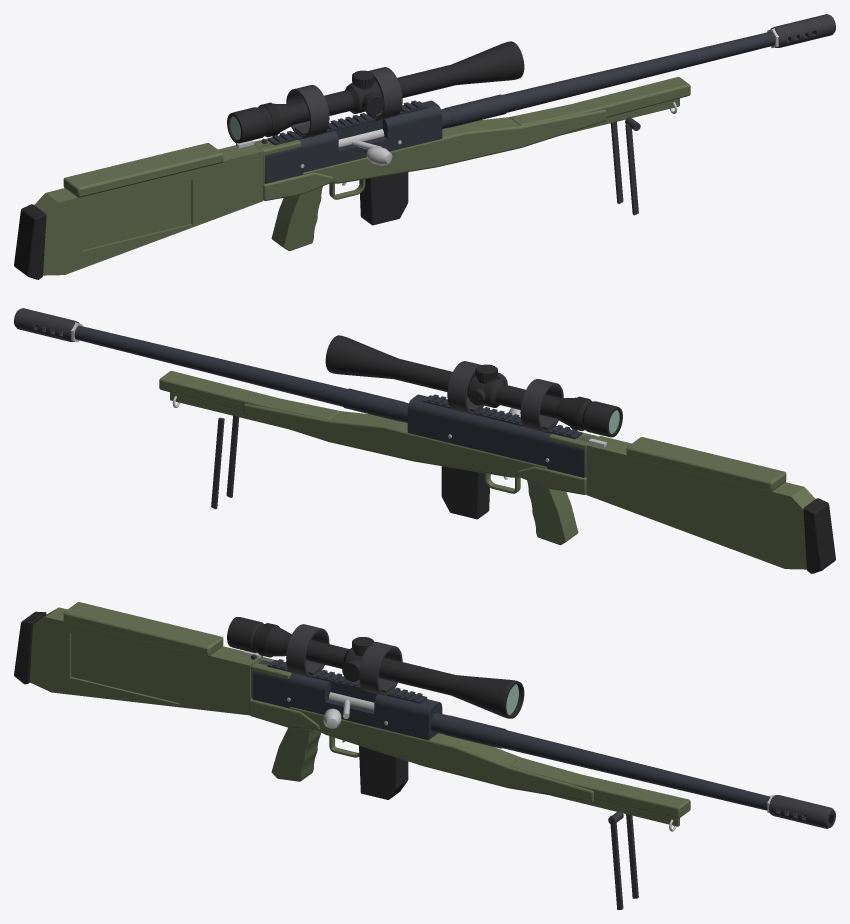
The model's file is AWP.glb.
The picture shows the model from 3 angles, top to bottom: view 1: azimuth 30°, elevation 25°; view 2: azimuth 150°, elevation 25°; view 3: azimuth 330°, elevation 25°; orthographic projection.
Parts seen in each view (by area): view 1: Buttstock, StockFront, ScopeTube, Receiver.002, Barrel.004, CheekRiser, Forend, PistolGrip.002, Magazine.004, ButtPad.001, Ring80, MuzzleBrake.001 (+8 smaller); view 2: Buttstock, StockFront, Receiver.002, ScopeTube, Barrel.004, CheekRiser, Forend, PistolGrip.002, Magazine.004, ButtPad.001, Ring80, MuzzleBrake.001 (+9 smaller); view 3: Buttstock, StockFront, ScopeTube, Receiver.002, Barrel.004, CheekRiser, Forend, Magazine.004, PistolGrip.002, MuzzleBrake.001, Ring80, Ring200 (+7 smaller).
Boxes of the visible parts, <box> form: Buttstock: <box>34,145,263,275</box>; StockFront: <box>302,109,606,183</box>; ScopeTube: <box>227,41,524,143</box>; Receiver.002: <box>260,100,442,183</box>; Barrel.004: <box>441,31,775,128</box>; CheekRiser: <box>63,143,223,197</box>; Forend: <box>510,77,690,125</box>; PistolGrip.002: <box>271,186,322,251</box>; Magazine.004: <box>359,172,408,225</box>; ButtPad.001: <box>14,204,46,279</box>; Ring80: <box>286,85,329,138</box>; MuzzleBrake.001: <box>770,14,835,47</box>; Buttstock: <box>586,435,815,569</box>; StockFront: <box>243,403,547,477</box>; Receiver.002: <box>407,394,590,477</box>; ScopeTube: <box>325,335,622,437</box>; Barrel.004: <box>74,325,408,422</box>; CheekRiser: <box>626,437,786,491</box>; Forend: <box>159,371,339,419</box>; PistolGrip.002: <box>527,480,578,545</box>; Magazine.004: <box>441,466,490,519</box>; ButtPad.001: <box>803,498,835,573</box>; Ring80: <box>520,379,563,432</box>; MuzzleBrake.001: <box>14,308,79,341</box>; Buttstock: <box>29,607,263,715</box>; StockFront: <box>289,706,595,802</box>; ScopeTube: <box>227,617,524,718</box>; Receiver.002: <box>252,660,442,740</box>; Barrel.004: <box>430,712,779,810</box>; CheekRiser: <box>63,602,223,656</box>; Forend: <box>510,758,690,818</box>; Magazine.004: <box>359,745,408,799</box>; PistolGrip.002: <box>271,727,320,781</box>; MuzzleBrake.001: <box>769,795,835,828</box>; Ring80: <box>286,624,329,677</box>; Ring200: <box>359,642,402,695</box>.
Size of the model in its own units: 1.33 by 0.3119 by 0.1212.
